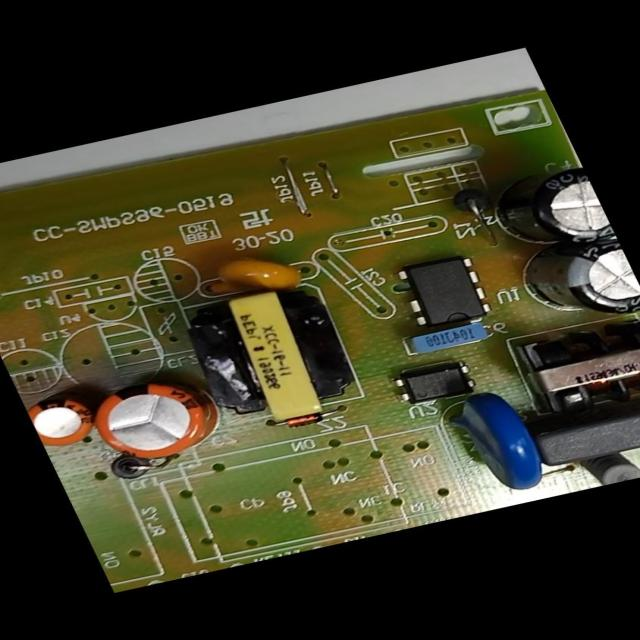Cap1: (77, 367, 235, 475)
Cap2: (22, 387, 109, 455)
Cap3: (505, 229, 639, 336)
Cap4: (470, 158, 618, 264)
MOSFET: (384, 250, 503, 338)
Mov: (433, 380, 566, 502)
Resistor: (566, 443, 640, 490)
Transformer: (166, 274, 380, 436), (506, 310, 639, 428)
